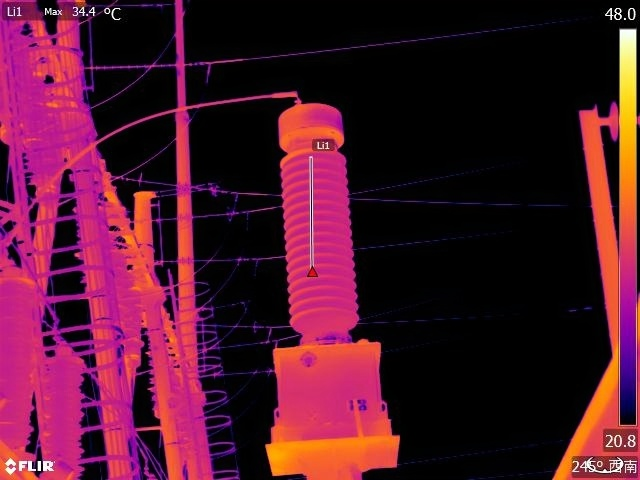potential transformer: (263, 95, 405, 451)
